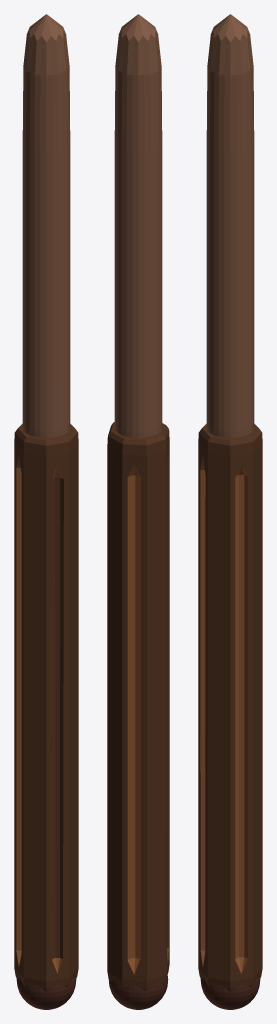
Rendered from Wand 513.glb.
3 renders of one model, left to right at view 1: azimuth 90°, elevation 25°; view 2: azimuth 150°, elevation 25°; view 3: azimuth 270°, elevation 25°, orthographic.
Visible parts, largest first — view 1: GeneratedWand; view 2: GeneratedWand; view 3: GeneratedWand.
Boxes of the visible parts, box(x1,y1,x2,y2) form: GeneratedWand: box(14, 14, 78, 1009); GeneratedWand: box(107, 14, 169, 1009); GeneratedWand: box(198, 14, 262, 1009).
Bounding box in the file's own units: 0.0289 × 0.492 × 0.0289.
